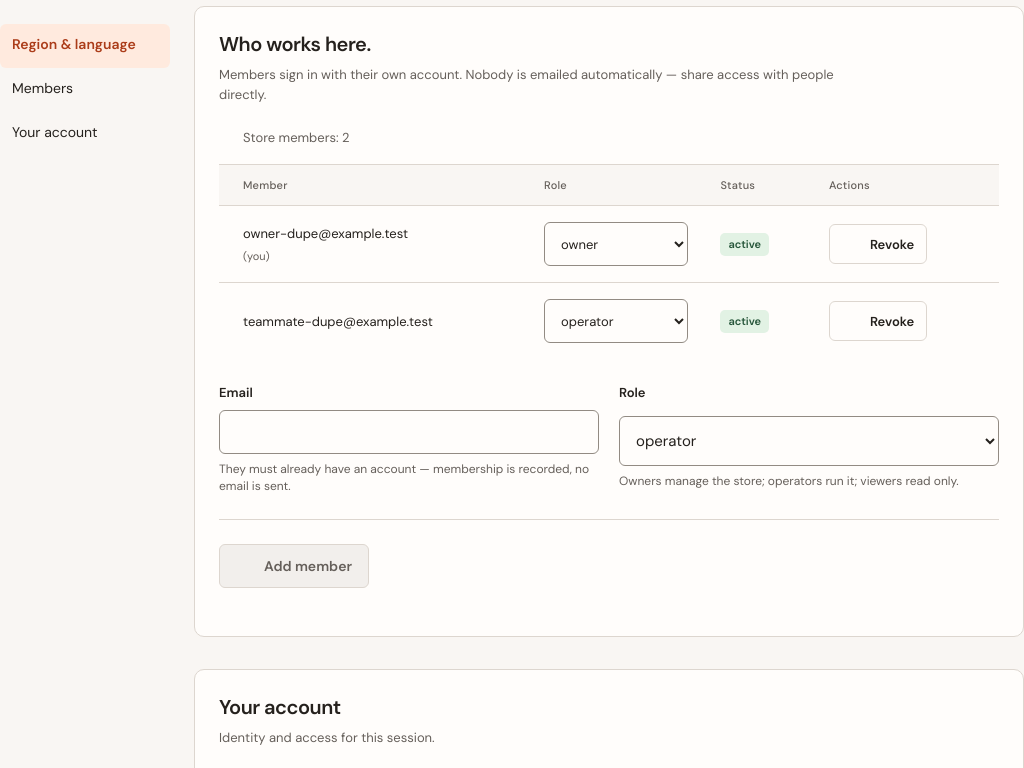
Test: settings store members (owner-managed) › surfaces the 409 already_member error when adding a duplicate
(page scrolled)
Type "teammate-dupe@example.test" into the field labelled "Email" at (409, 432), box [219,410,599,454]
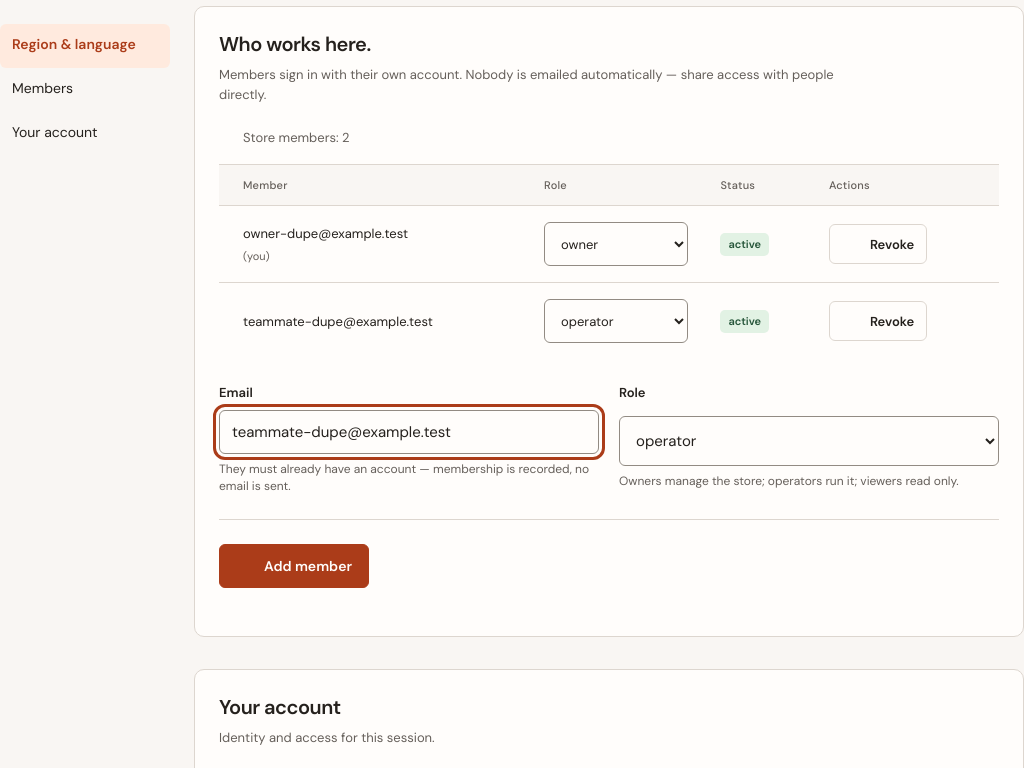
Click the button "Add member" at (294, 566), box [219,544,369,588]
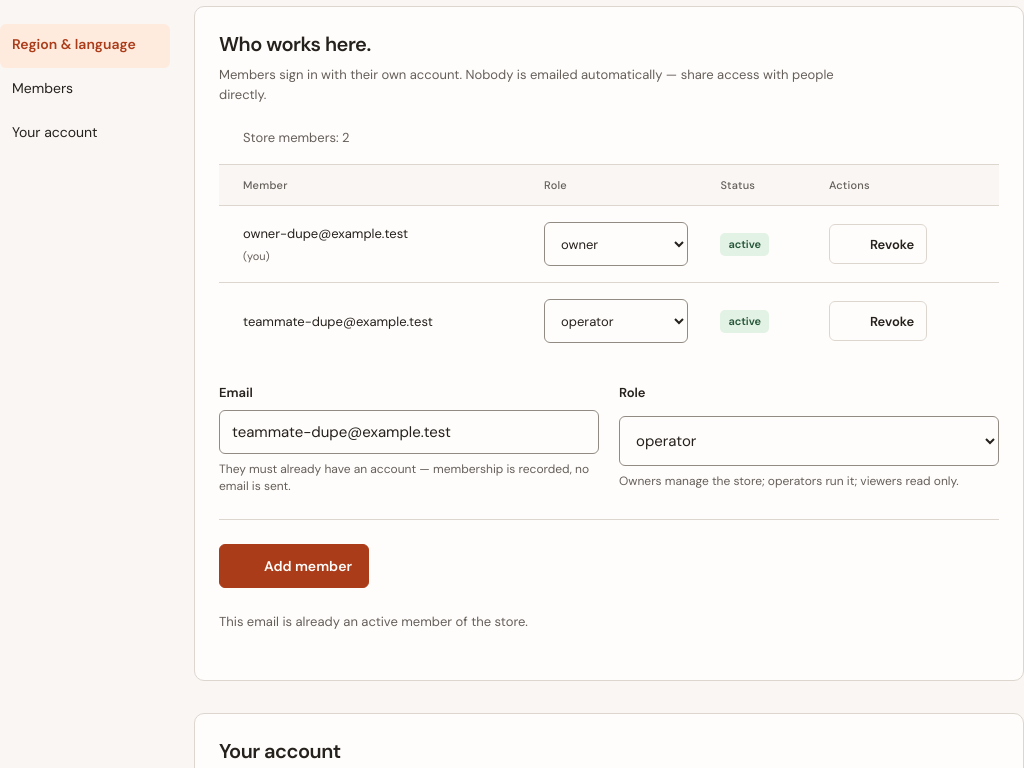
Check: the text "This email is already an active member of the store." is shown, box [219,613,528,630]
